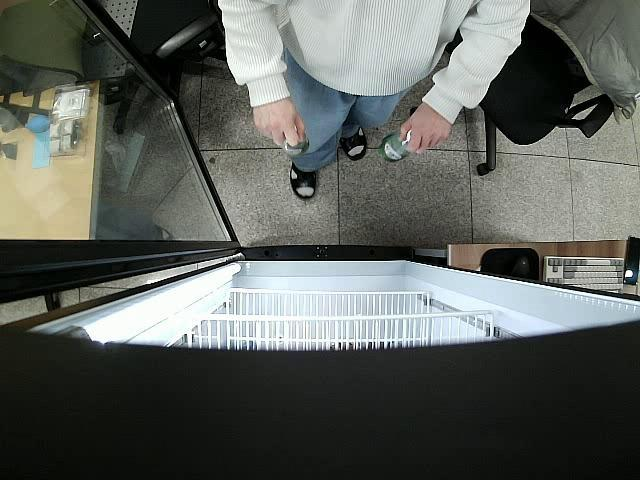18_trevi: (381, 126, 412, 165), (283, 129, 308, 159)
